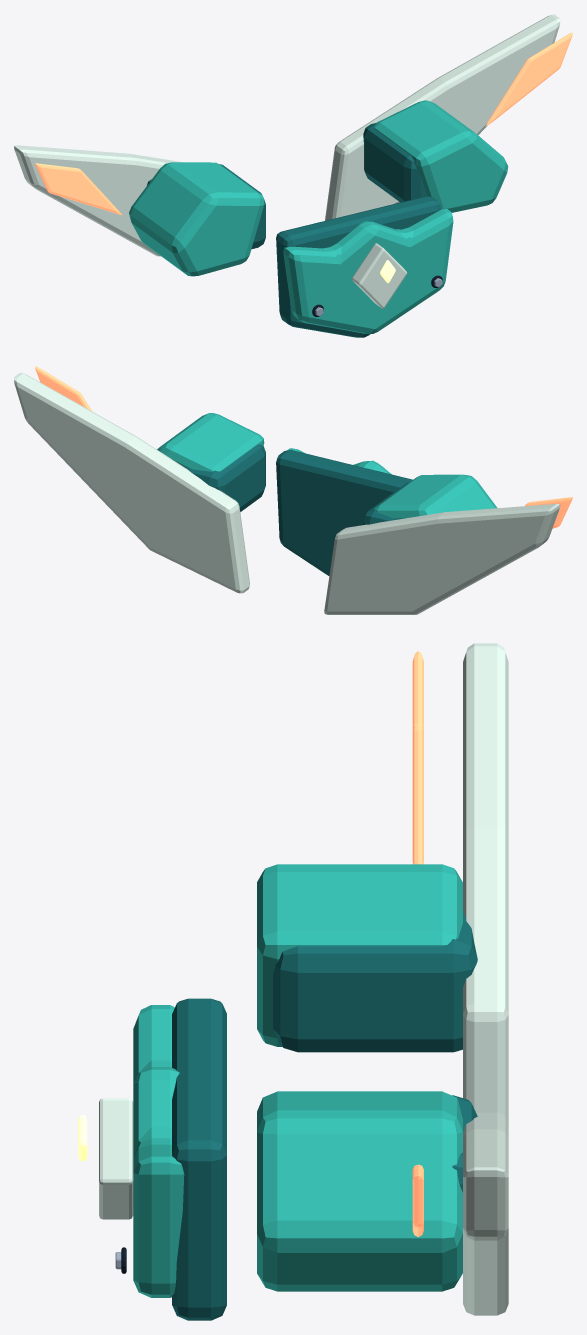
File: sail_frame.glb
3 views of the same model, one above another, from view 1: azimuth 30°, elevation 25°; view 2: azimuth 150°, elevation 25°; view 3: azimuth 270°, elevation 25° (orthographic). The views are drawn at different scales.
Visible parts, largest first — view 1: ModuleArmor; view 2: ModuleArmor; view 3: ModuleArmor.
Boxes of the visible parts, x1=… form: ModuleArmor: x1=14, y1=14, x2=572, y2=337; ModuleArmor: x1=14, y1=366, x2=572, y2=614; ModuleArmor: x1=78, y1=643, x2=508, y2=1320.
Size of the model in its own units: 2.72 by 0.9652 by 0.94.
